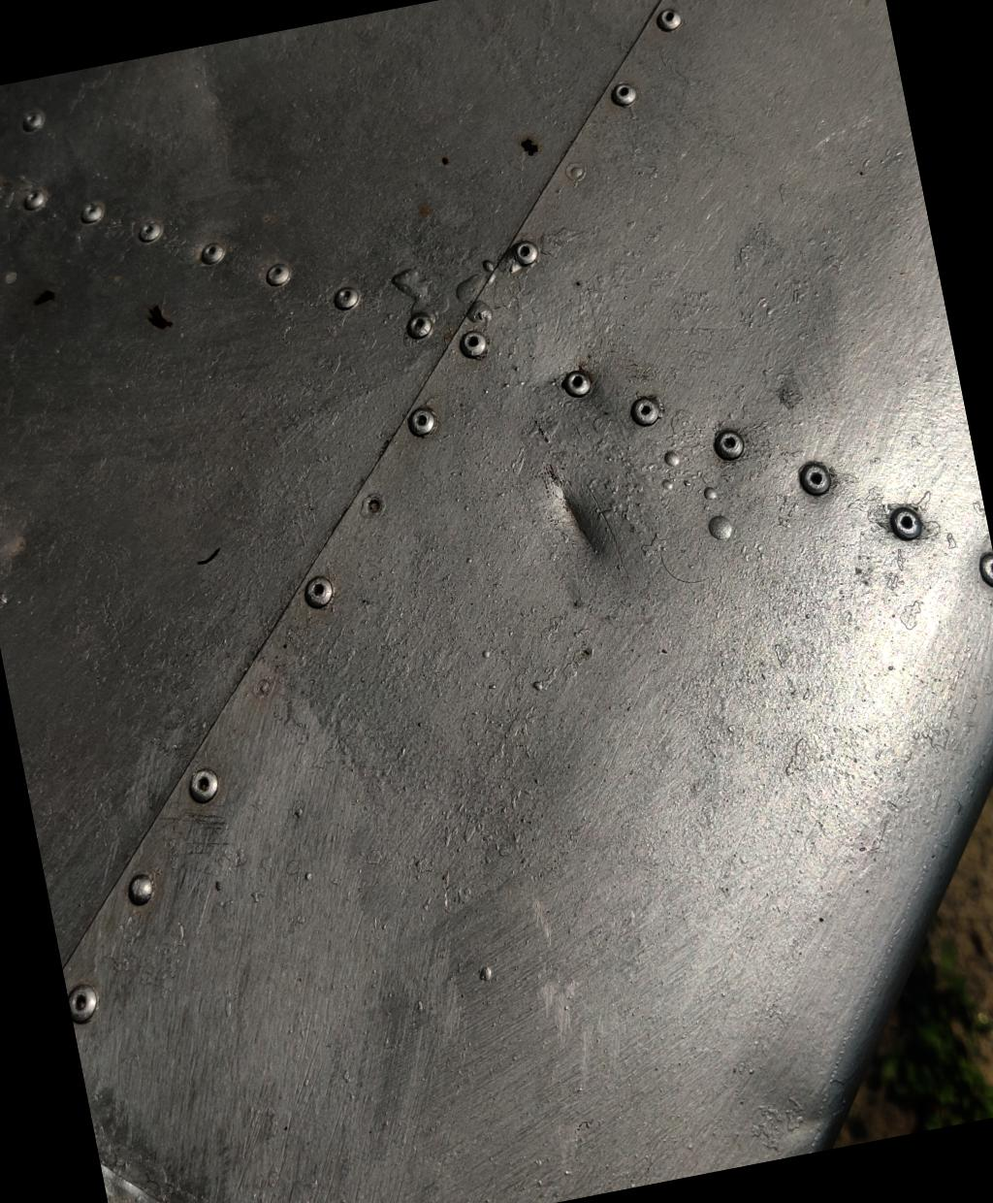dent: (482, 403, 697, 650)
